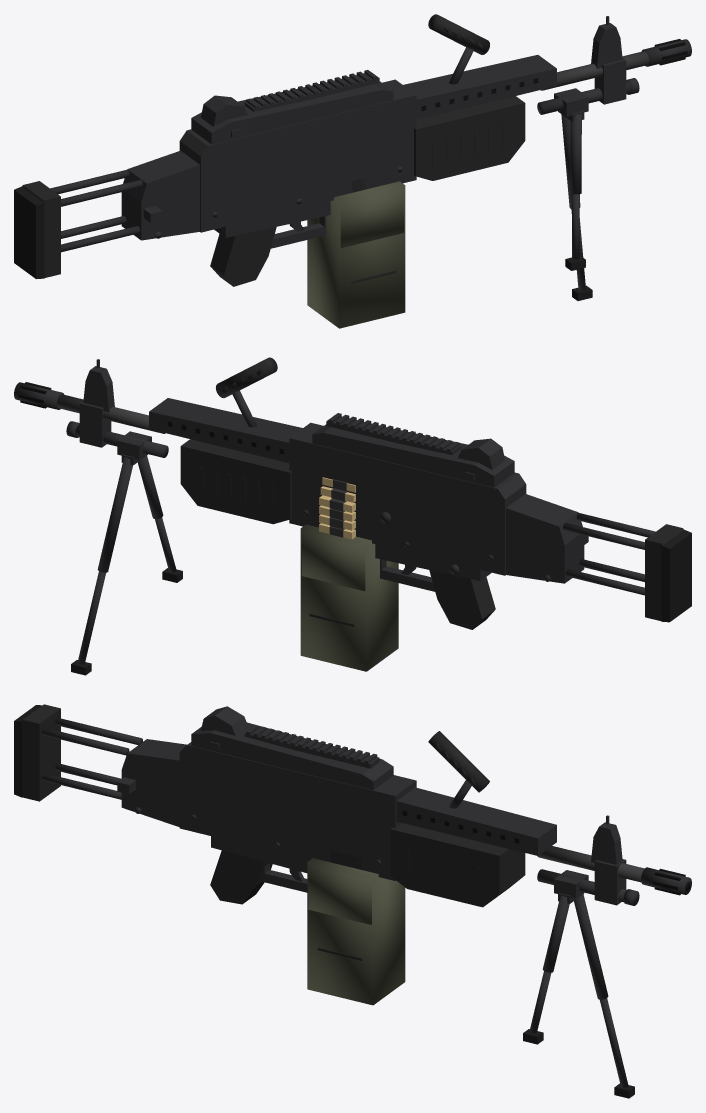
Rendered from lmg01_rig.glb.
3 views of the same model, one above another, from view 1: azimuth 30°, elevation 25°; view 2: azimuth 150°, elevation 25°; view 3: azimuth 330°, elevation 25° (orthographic).
Parts seen in each view (by area): view 1: G_Receiver, G_AmmoPouch, G_HandguardLower, G_RearReceiver, G_HandguardTop, G_FeedCover, G_PouchFlap, G_PistolGrip, G_ButtPad, G_BipodLegs, G_TopRail, G_ButtPlate (+15 smaller); view 2: G_Receiver, G_AmmoPouch, G_HandguardLower, G_RearReceiver, G_HandguardTop, G_FeedCover, G_BipodLegs, G_PouchFlap, G_PistolGrip, G_ButtPad, G_Belt, G_TopRail (+16 smaller); view 3: G_Receiver, G_AmmoPouch, G_HandguardLower, G_HandguardTop, G_FeedCover, G_RearReceiver, G_BipodLegs, G_ButtPlate, G_PouchFlap, G_PistolGrip, G_TopRail, G_TriggerHousing (+12 smaller).
Part boxes in pixels (x1,y1,x2,y2): G_Receiver: (179,79,416,232); G_AmmoPouch: (307,181,405,328); G_HandguardLower: (414,96,525,180); G_RearReceiver: (121,150,199,240); G_HandguardTop: (403,55,556,119); G_FeedCover: (191,81,393,144); G_PouchFlap: (340,188,404,247); G_PistolGrip: (210,227,276,286); G_ButtPad: (14,186,44,279); G_BipodLegs: (561,114,585,290); G_TopRail: (244,70,379,111); G_ButtPlate: (22,181,60,277); G_Receiver: (289,422,526,575); G_AmmoPouch: (300,524,398,671); G_HandguardLower: (180,439,291,524); G_RearReceiver: (506,494,584,583); G_HandguardTop: (149,398,302,462); G_FeedCover: (312,424,514,487); G_BipodLegs: (77,456,176,664); G_PouchFlap: (301,531,365,591); G_PistolGrip: (429,570,495,629); G_ButtPad: (661,529,691,622); G_Belt: (319,477,355,539); G_TopRail: (326,413,461,454); G_Receiver: (179,742,416,880); G_AmmoPouch: (307,858,405,1005); G_HandguardLower: (390,823,525,907); G_HandguardTop: (396,787,556,855); G_FeedCover: (191,722,393,790); G_RearReceiver: (121,739,186,826); G_BipodLegs: (529,894,628,1087); G_ButtPlate: (22,704,60,801); G_PouchFlap: (308,865,371,924); G_PistolGrip: (210,850,272,904); G_TopRail: (244,725,379,768); G_TriggerHousing: (211,836,309,872).
Bounding box in the file's own units: 0.8991 × 0.4386 × 0.114.
